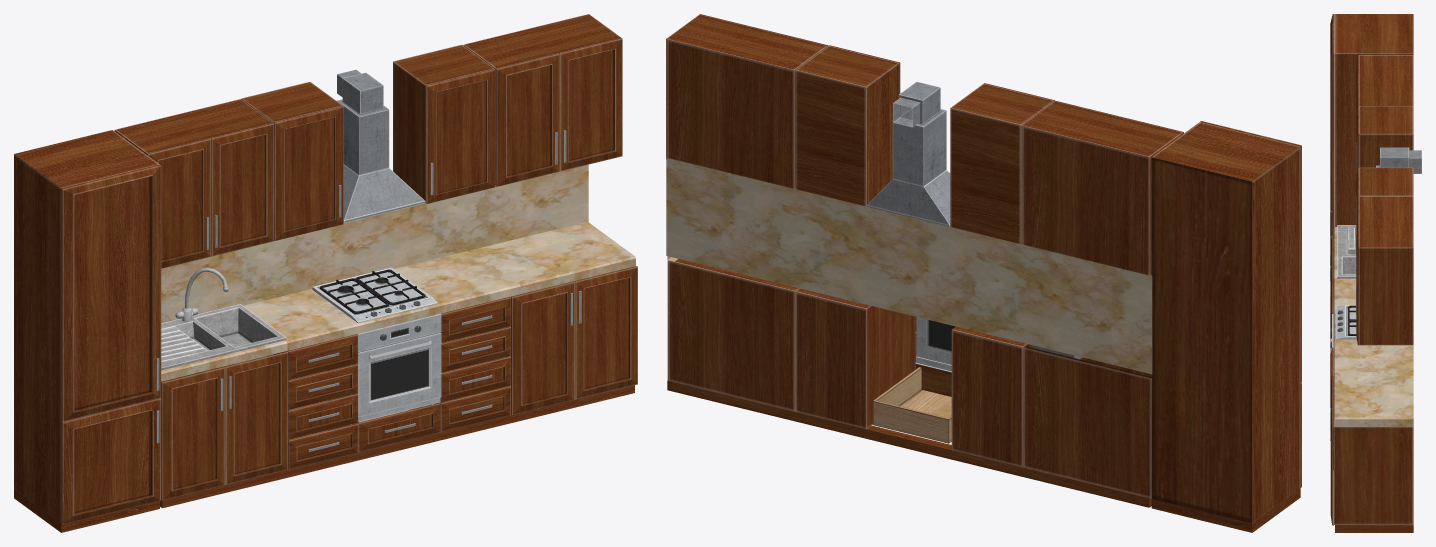
Rendered from kitchen_counter.glb.
The picture shows the model from 3 angles, left to right: view 1: azimuth 30°, elevation 25°; view 2: azimuth 150°, elevation 25°; view 3: azimuth 270°, elevation 25°; orthographic projection. The views are drawn at different scales.
Visible parts, largest first — view 1: Table, Cupboard_Big_door_upper, Cupboard_Big, Cupboard_Big_door_lower, Cupboard_Upper_02_Door, Cupboard_Upper_03_Door, Cupboard_Lower_02_Door_L, Cupboard_Upper_01_Door_R, Cupboard_Upper_01_Door_L, Cupboard_Lower_01_Door_L, Air_Vent, Cupboard_Lower_01_Door_R (+20 smaller); view 2: Cupboard_Big, Table, Cupboard_Upper_04, Cupboard_Upper_01, Cupboard_Lower_01, Cupboard_Lower_02, Cupboard_Upper_02, Drawer_01_Body, Cupboard_Upper_03, Drawer_02_Body, Air_Vent, Basement (+2 smaller); view 3: Cupboard_Upper_01, Cupboard_Lower_01, Table, Cupboard_Big, Cupboard_Upper_04, Cupboard_Upper_03, Cupboard_Upper_02, Cupboard_Big_door_upper, Syphon, Air_Vent, Cooktop, Basement (+5 smaller).
Boxes of the visible parts, x1,y1,x2,y2 form: Table: (161,164,635,381); Cupboard_Big_door_upper: (61,164,161,421); Cupboard_Big: (14,130,159,532); Cupboard_Big_door_lower: (61,398,161,524); Cupboard_Upper_02_Door: (425,68,495,203); Cupboard_Upper_03_Door: (273,105,343,240); Cupboard_Lower_02_Door_L: (161,367,225,500); Cupboard_Upper_01_Door_R: (559,38,622,171); Cupboard_Upper_01_Door_L: (496,53,559,186); Cupboard_Lower_01_Door_L: (511,281,574,414); Air_Vent: (337,69,425,223); Cupboard_Lower_01_Door_R: (574,266,637,399); Cupboard_Big: (1151,122,1300,532); Table: (666,158,1152,374); Cupboard_Upper_04: (1021,101,1182,275); Cupboard_Upper_01: (666,14,827,189); Cupboard_Lower_01: (667,259,799,411); Cupboard_Lower_02: (1022,344,1151,498); Cupboard_Upper_02: (795,46,899,206); Drawer_01_Body: (795,288,915,429); Cupboard_Upper_03: (950,83,1054,243); Drawer_02_Body: (951,326,1026,467); Air_Vent: (866,81,950,226); Basement: (667,380,1151,507); Cupboard_Upper_01: (1359,196,1413,345); Cupboard_Lower_01: (1334,427,1413,524); Table: (1333,227,1413,426); Cupboard_Big: (1335,14,1413,226); Cupboard_Upper_04: (1359,55,1413,105); Cupboard_Upper_03: (1359,106,1413,167); Cupboard_Upper_02: (1359,167,1413,196); Cupboard_Big_door_upper: (1330,14,1334,239); Syphon: (1337,225,1356,278); Air_Vent: (1376,147,1421,173); Cooktop: (1336,305,1356,339); Basement: (1335,525,1413,532).
Bounding box in the file's own units: 3.61 × 2.07 × 0.6.
16 materials, 16 textured.
